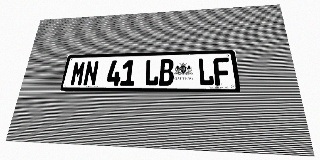1: (120, 60, 136, 86)
4: (106, 60, 122, 86)
B: (159, 59, 174, 86)
F: (213, 57, 231, 86)
L: (198, 58, 214, 86), (144, 59, 159, 86)
M: (70, 61, 86, 86)
N: (83, 61, 99, 86)
